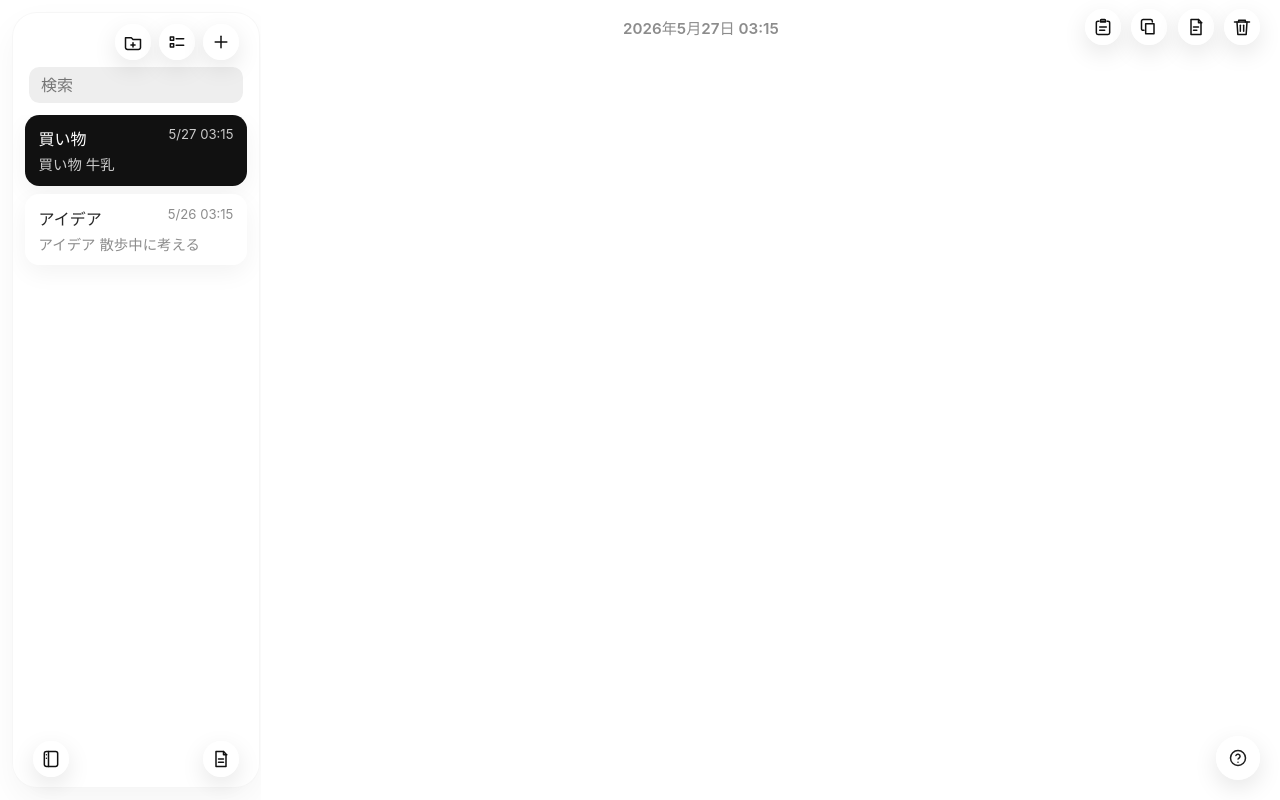
Test: App › searches notes by Markdown text while keeping note-oriented results
This screenshot has width=1280, height=800.
Check: the option "買い物 5/27 03:15 買い物 牛乳" is shown, box left=25, top=115, right=247, bottom=186
Check: the option "アイデア 5/26 03:15 アイデア 散歩中に考える" is shown, box left=25, top=194, right=247, bottom=265
In the search field named "Noteを検索": (136, 85) left=29, top=67, right=243, bottom=103, type "牛乳"
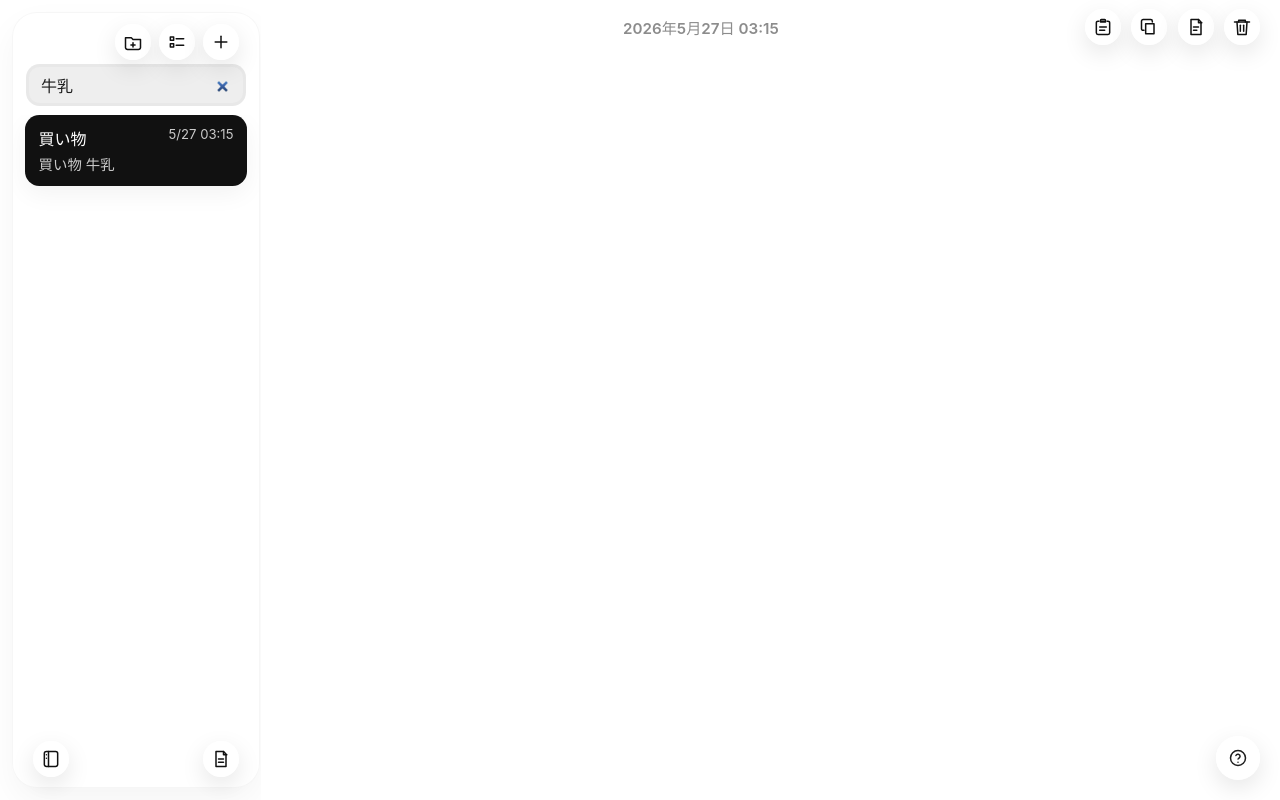
Check: the option "買い物 5/27 03:15 買い物 牛乳" is shown, box left=25, top=115, right=247, bottom=186
Check: the option "アイデア" is gone
